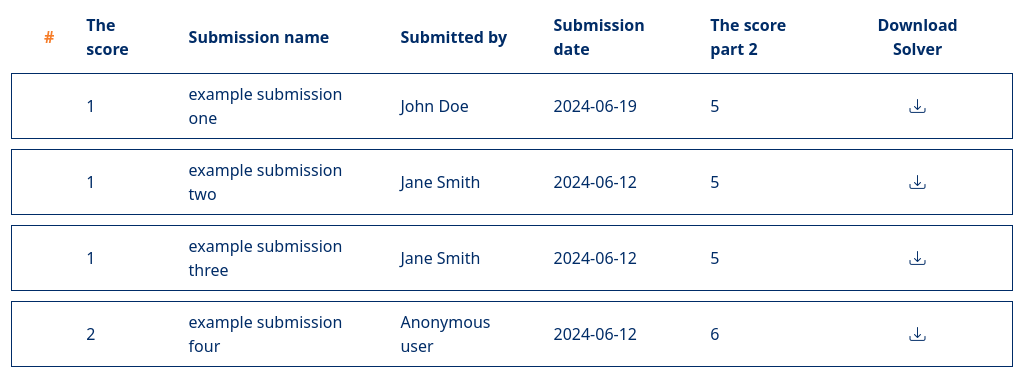
Test: Download Handler Error test suite › Error 401
// Find download button and click
Click the button without text in the row of "example submission one" at x=918, y=106, box [910,95,926,117]
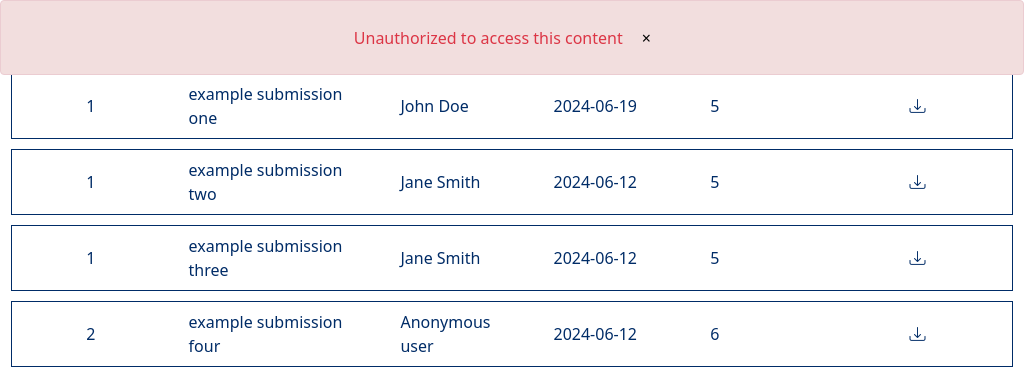
Expected: the text "Unauthorized to access this content" is shown, [354,27,623,49]
